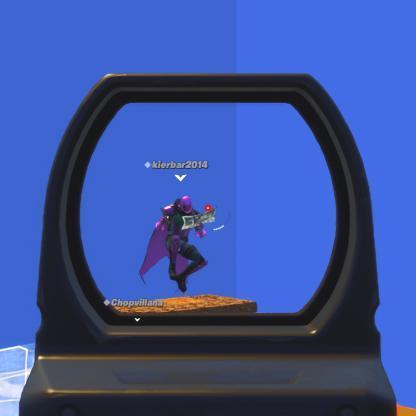person: (158, 196, 217, 292)
